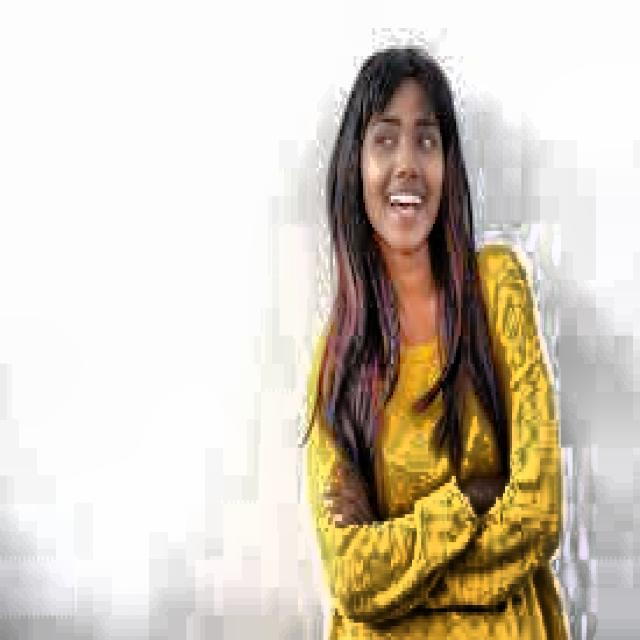Human: (303, 20, 558, 622)
